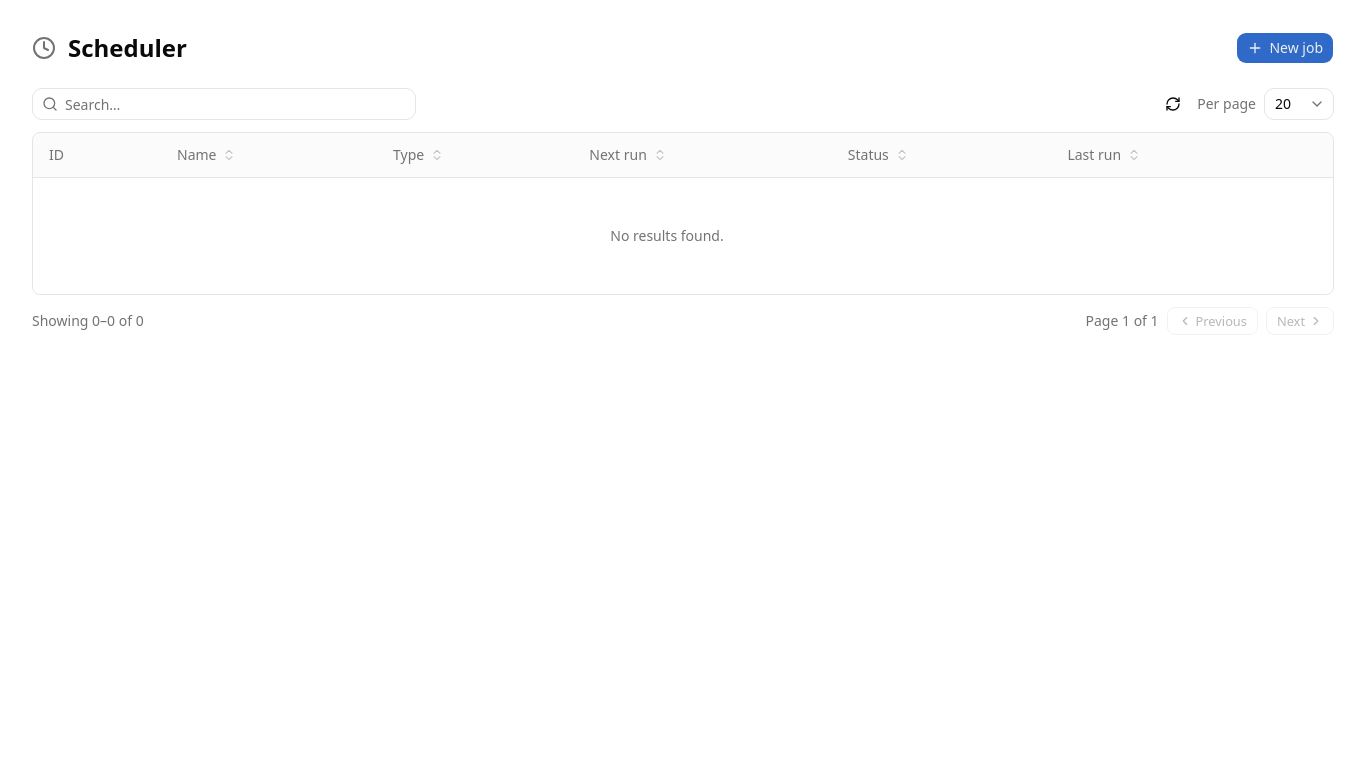
Test: shows the job-type placeholder before a type is picked
Click the button "New job": (1285, 48) [1236,32,1334,64]
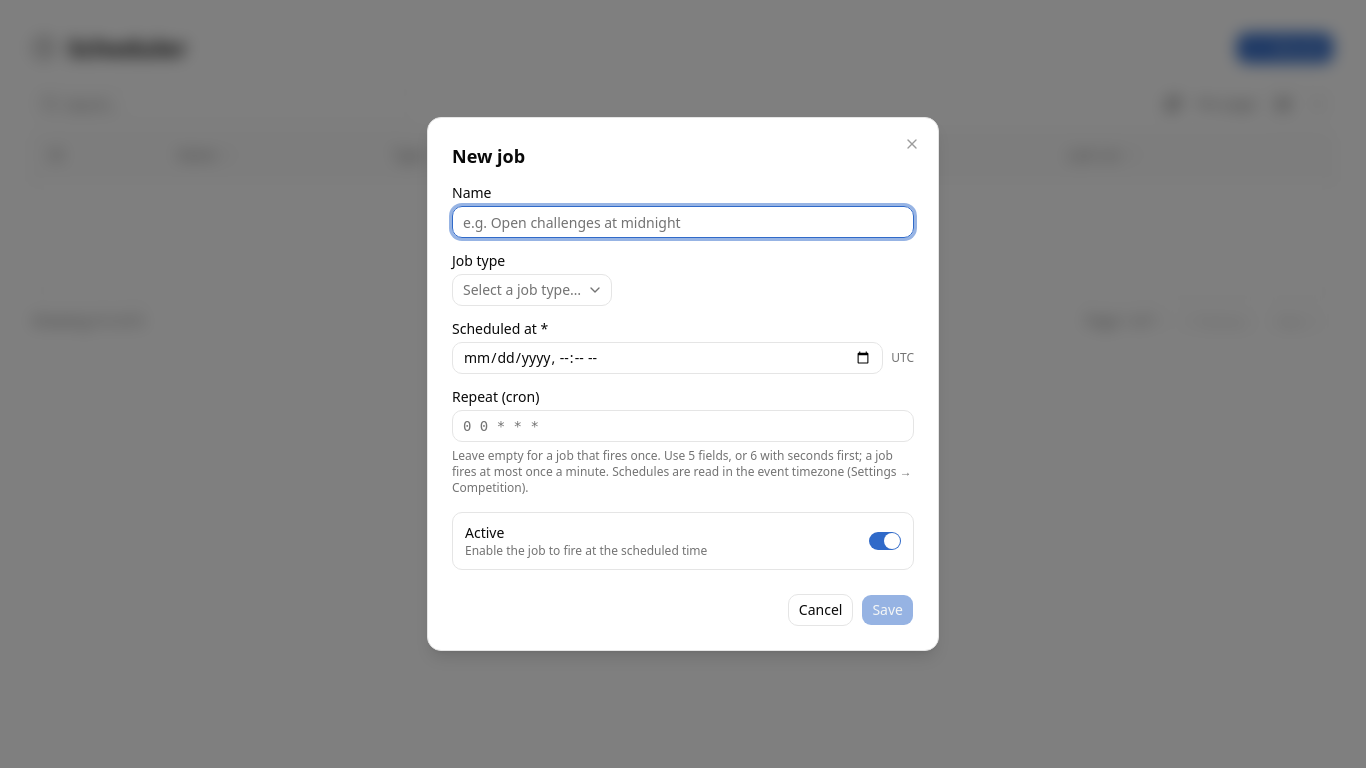
Expected: the dialog shows "Select a job type", [452,274,612,306]
